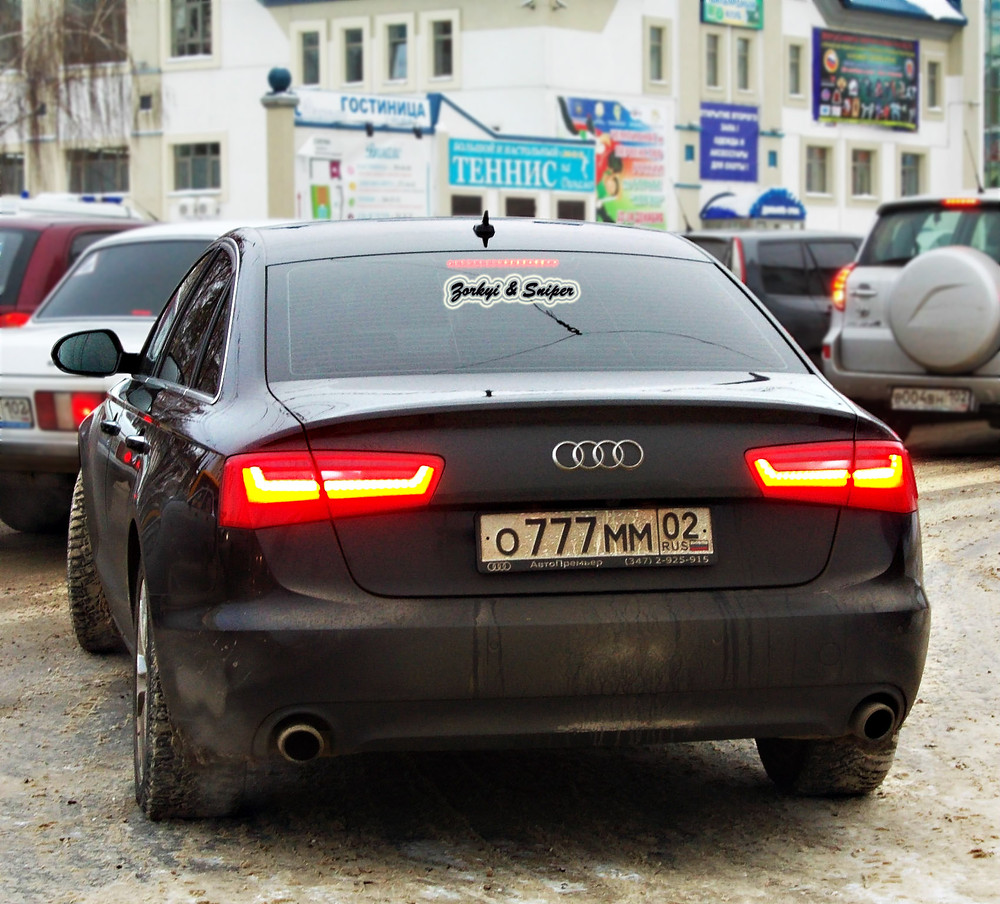number_plate: (485, 499, 716, 559)
